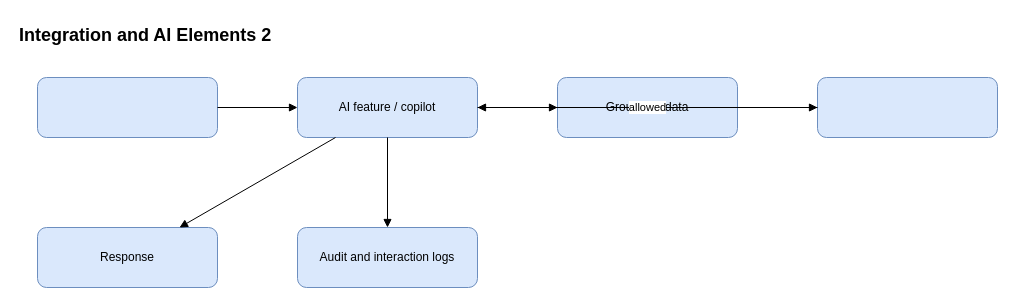
The diagram is 1015 pixels wide and 305 high, and some of its shapes have lost their labels. Here are the shapes that lost their labels. From the top down, the centre of each, then its label:
(127,107): User prompt
(907,107): Labels, DLP, access checks
